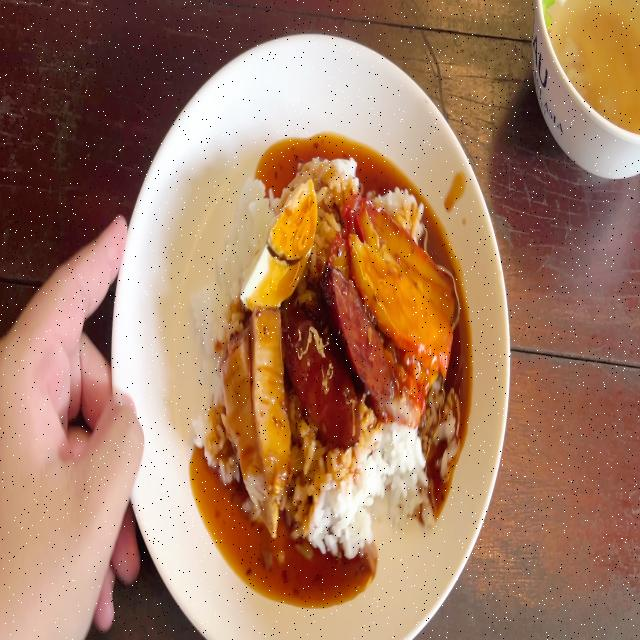boiled_egg: (240, 172, 318, 307)
chainese_sausage: (293, 273, 384, 444)
crispy_pork: (221, 300, 286, 518)
red_pork: (350, 199, 455, 362)
red_pork_and_crispy_pork: (194, 160, 443, 546)
rice: (297, 430, 424, 550), (223, 177, 274, 273), (194, 256, 234, 362)
